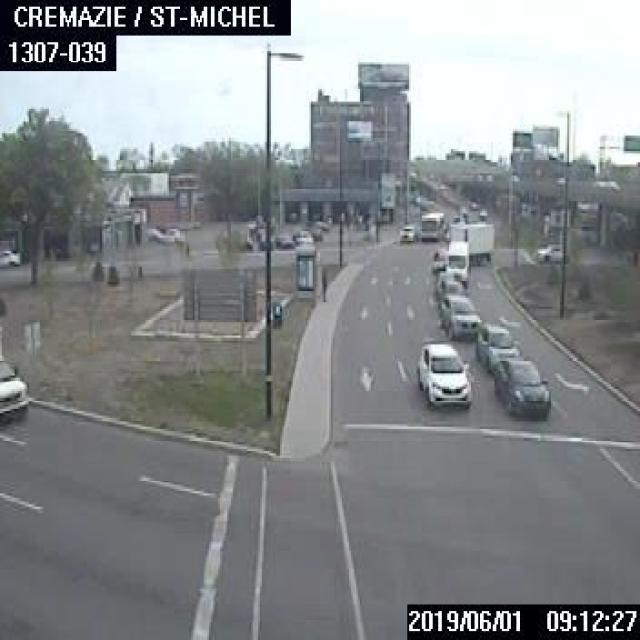bus: (419, 210, 443, 240)
pedestrian: (319, 266, 327, 300)
vehicle: (415, 340, 472, 408), (493, 356, 549, 416), (474, 322, 520, 371), (0, 349, 29, 424), (434, 293, 480, 339), (446, 220, 495, 263), (445, 239, 467, 286), (434, 276, 465, 298), (533, 242, 569, 260), (156, 226, 184, 241), (397, 223, 417, 242), (273, 231, 292, 247), (0, 249, 20, 264), (432, 247, 445, 270), (292, 229, 311, 242)
